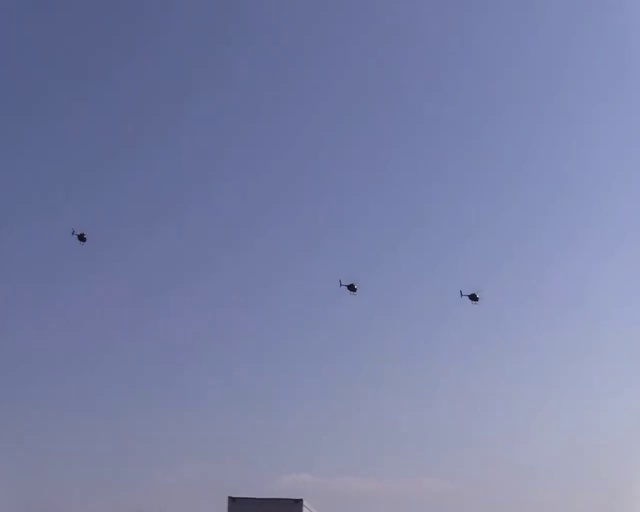HELICOPTER: (71, 228, 87, 244)
